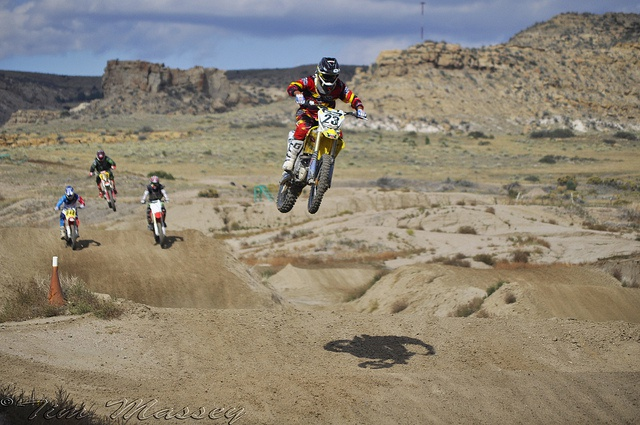non-vehicle: (277, 97, 367, 213), (55, 205, 84, 249), (143, 197, 166, 248), (92, 169, 117, 211)
